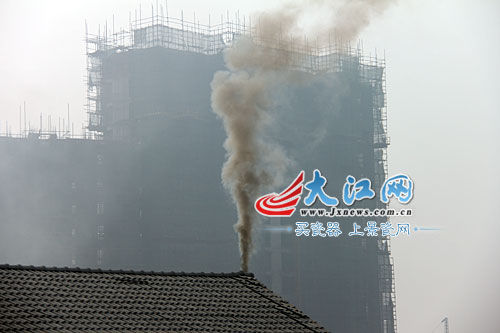smoke: (210, 17, 288, 237)
